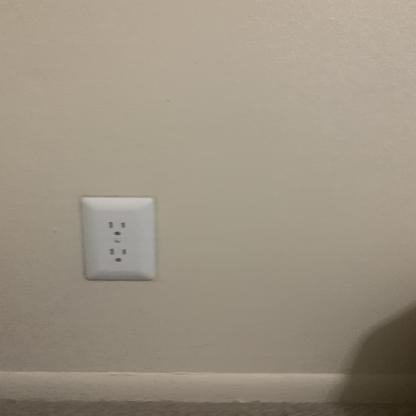OUTLET: (80, 198, 156, 280)
